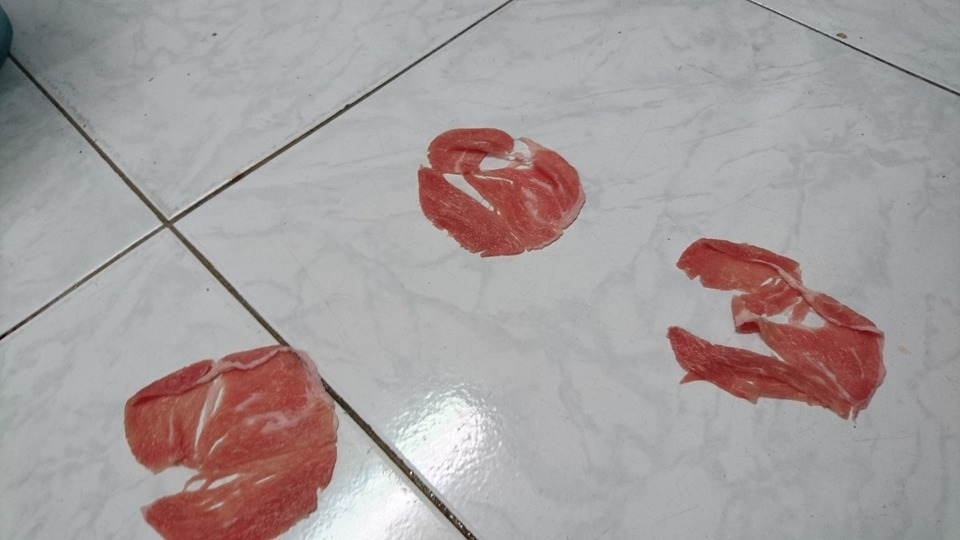restructured meat: (108, 323, 343, 534), (658, 237, 891, 428), (403, 110, 601, 265)
